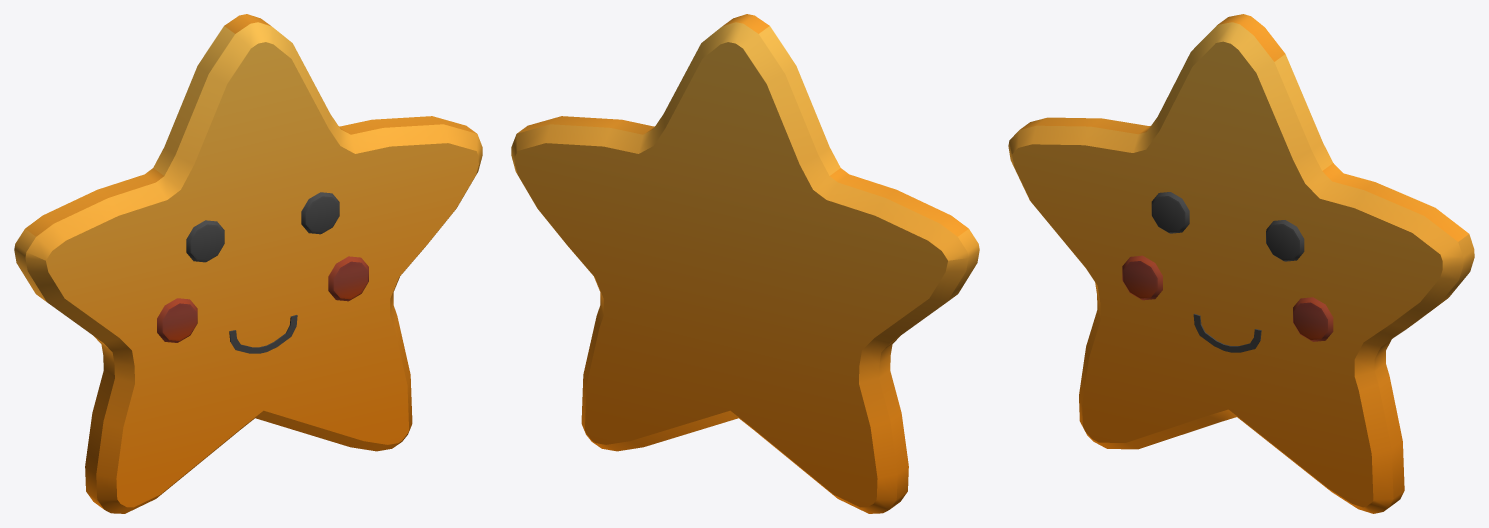
File: Star Toy.fbx
3 renders of one model, left to right at view 1: azimuth 30°, elevation 25°; view 2: azimuth 150°, elevation 25°; view 3: azimuth 330°, elevation 25°, orthographic.
Visible parts, largest first — view 1: Star Toy; view 2: Star Toy; view 3: Star Toy.
Boxes of the visible parts, left/top/right/bottom form: Star Toy: left=14, top=14, right=482, bottom=513; Star Toy: left=511, top=14, right=979, bottom=513; Star Toy: left=1008, top=14, right=1474, bottom=513.
Size of the model in its own units: 0.2192 by 0.2105 by 0.0255.
